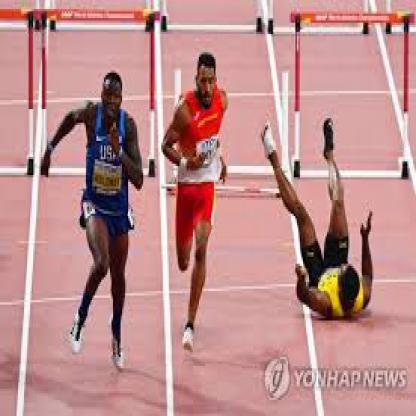Fall_Down: (261, 116, 376, 322)
